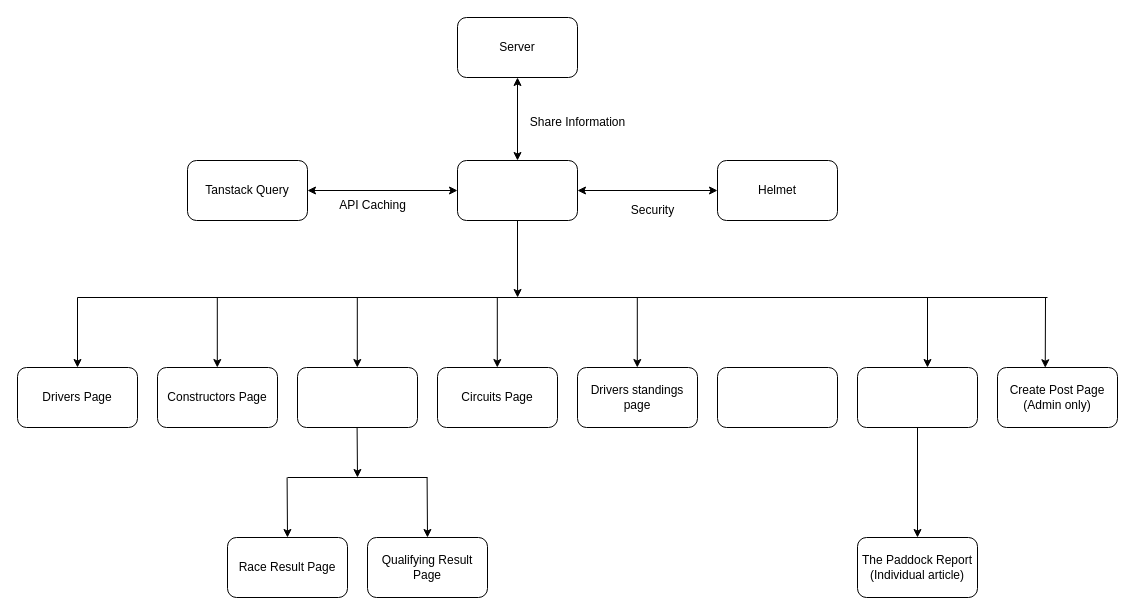
Image size: 1135x615. Some labels were removed from this diagram. Here are the shapes that lost their labels. From the top down, the box of each, then its label:
(456, 160, 578, 220): Frontend App
(296, 366, 418, 428): Schedule Page
(716, 366, 838, 428): Constructors Standings Page
(856, 366, 978, 428): The Paddock Report (All articles)
